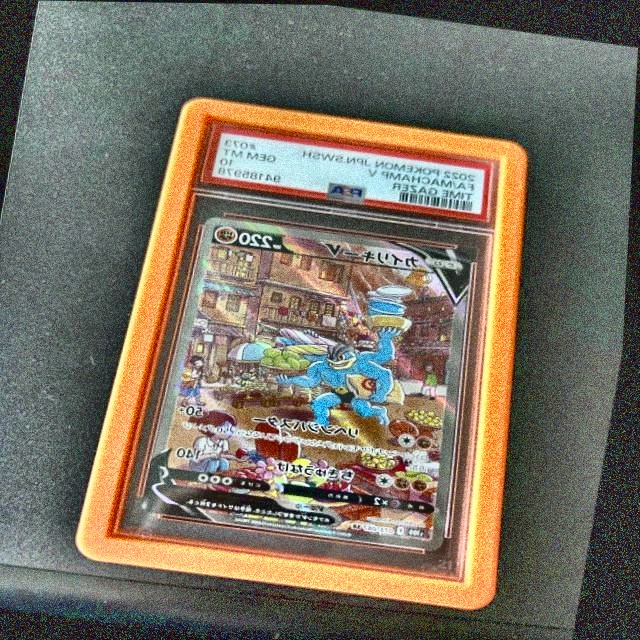card: (143, 214, 474, 548)
